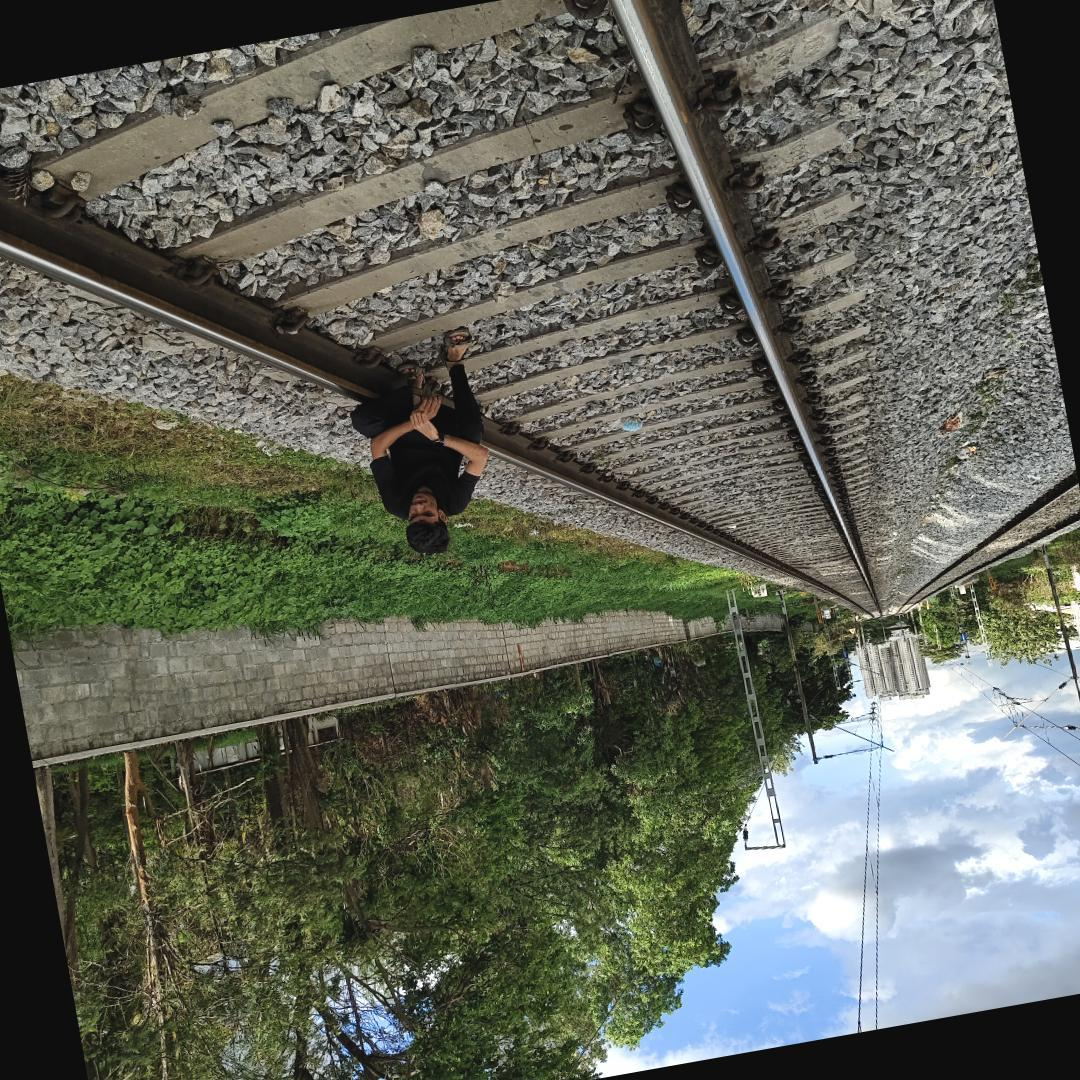sitting: (338, 327, 526, 578)
